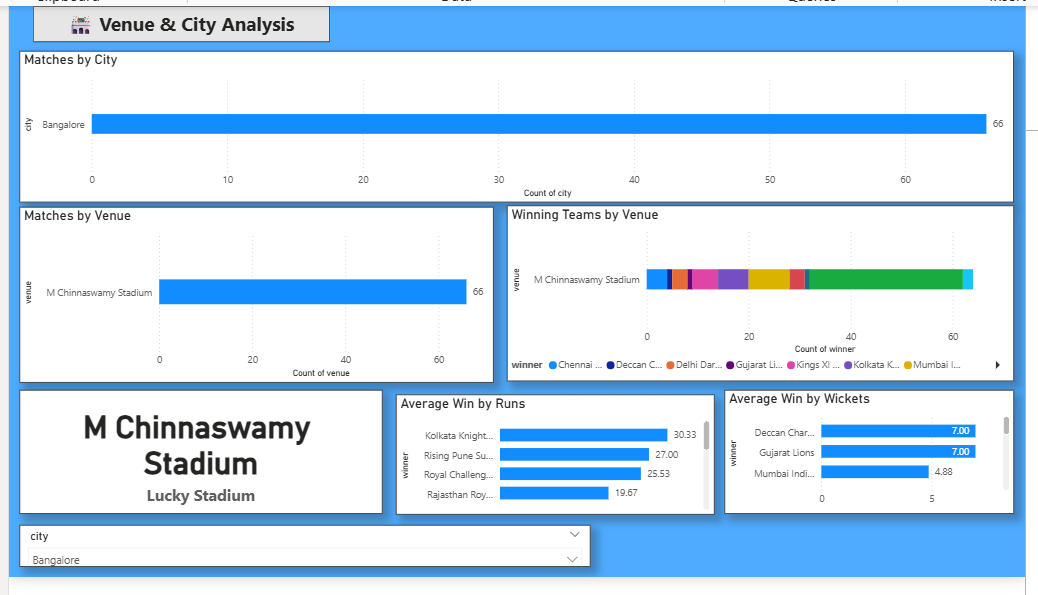

Layout of this report page (visuals, bound fields, positions):
{"tool":"powerbi","page":{"name":"venue and city analysis","canvas":[1280,720],"ordinal":2},"visuals":[{"type":"clusteredBarChart","title":"Matches by City","fields":{"Category":["matches (1) csv.city"],"Y":["CountNonNull(matches (1) csv.city)"]},"box":[13.2,56.7,1252.9,190.9],"z":0},{"type":"clusteredBarChart","title":"Matches by Venue","fields":{"Category":["matches (1) csv.venue"],"Y":["CountNonNull(matches (1) csv.venue)"]},"box":[13.2,253.2,597.2,221.1],"z":1000},{"type":"barChart","title":"Winning Teams by Venue","fields":{"Category":["matches (1) csv.venue"],"Y":["CountNonNull(matches (1) csv.winner)"],"Series":["matches (1) csv.winner"]},"box":[627.4,251.3,638.7,221.1],"z":2000},{"type":"clusteredBarChart","title":"Average Win by Runs","fields":{"Category":["matches (1) csv.winner"],"Y":["Avg(matches (1) csv.win_by_runs)"]},"box":[487.6,489.1,401.3,151.4],"z":3000},{"type":"clusteredBarChart","title":"Average Win by Wickets","fields":{"Category":["matches (1) csv.winner"],"Y":["Avg(matches (1) csv.win_by_wickets)"]},"box":[901,484.5,364.9,156],"z":4000},{"type":"textbox","box":[30.3,0,374,45.4],"z":5000},{"type":"card","fields":{"Values":["deliveries csv.Lucky Stadium"]},"box":[13.6,484.5,457.3,156],"z":6000},{"type":"slicer","fields":{"Values":["matches (1) csv.city"]},"box":[13.6,654.1,719.2,53],"z":7000}]}

Visuals, with their boxes in screenshot pixels (x1, y1, x2, y2):
"Matches by City" clusteredBarChart: region(19, 48, 1021, 201)
"Matches by Venue" clusteredBarChart: region(19, 205, 496, 382)
"Winning Teams by Venue" barChart: region(510, 204, 1021, 380)
"Average Win by Runs" clusteredBarChart: region(398, 394, 719, 515)
"Average Win by Wickets" clusteredBarChart: region(729, 390, 1020, 515)
textbox: region(32, 3, 331, 39)
card - deliveries csv.Lucky Stadium: region(19, 390, 385, 515)
slicer - matches (1) csv.city: region(19, 526, 594, 568)
